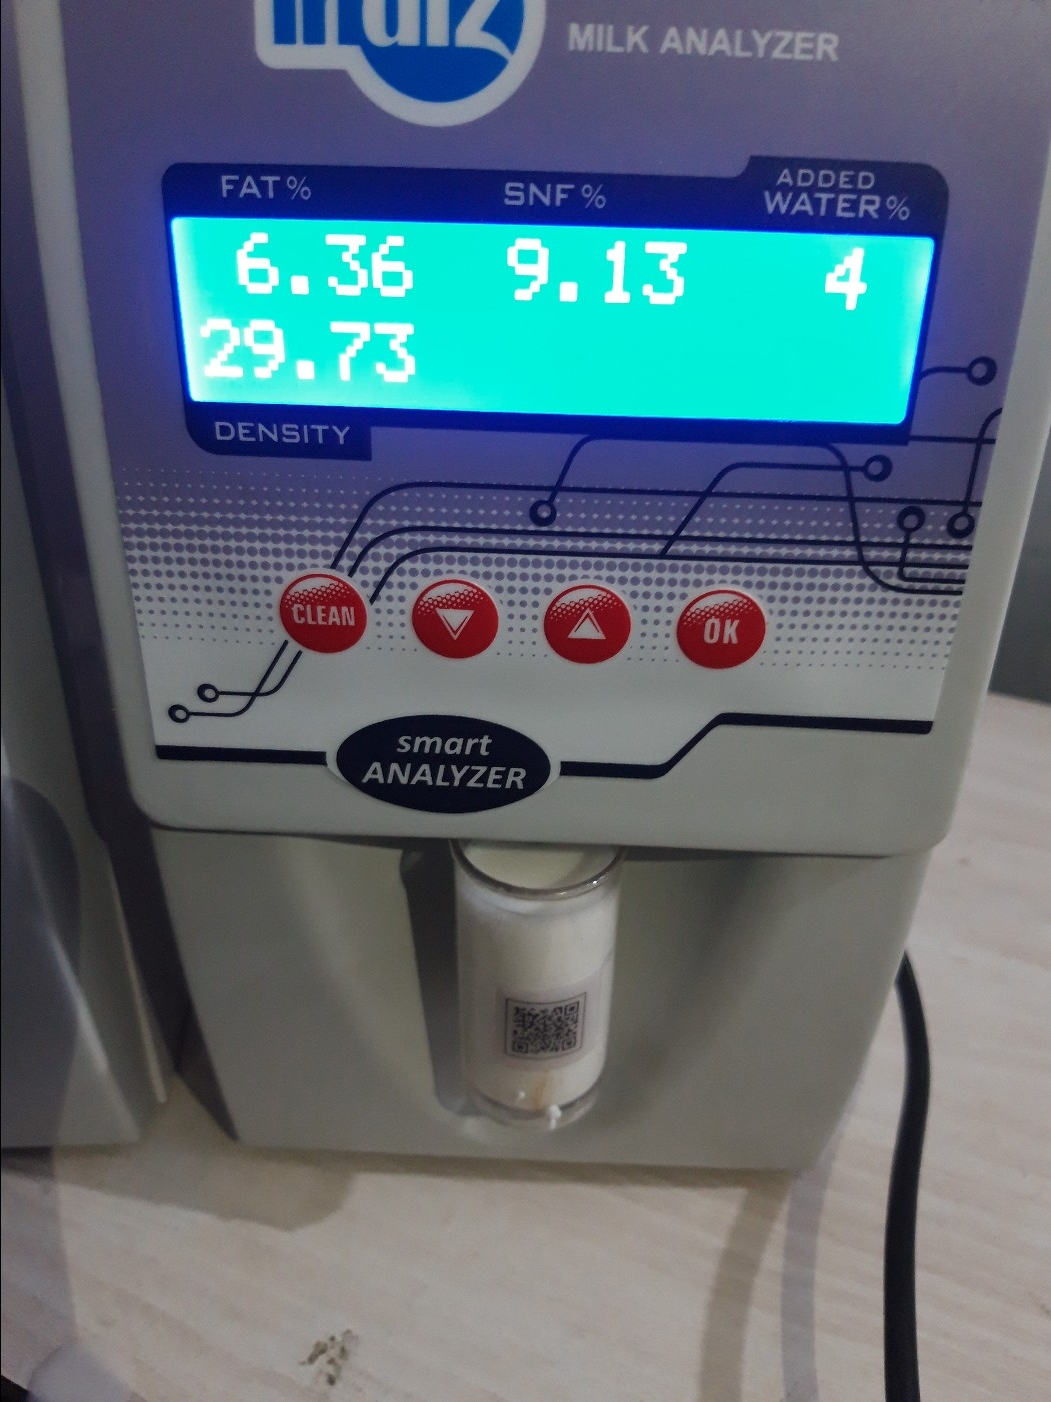lcd: (164, 208, 935, 453)
qr: (493, 987, 590, 1060)
